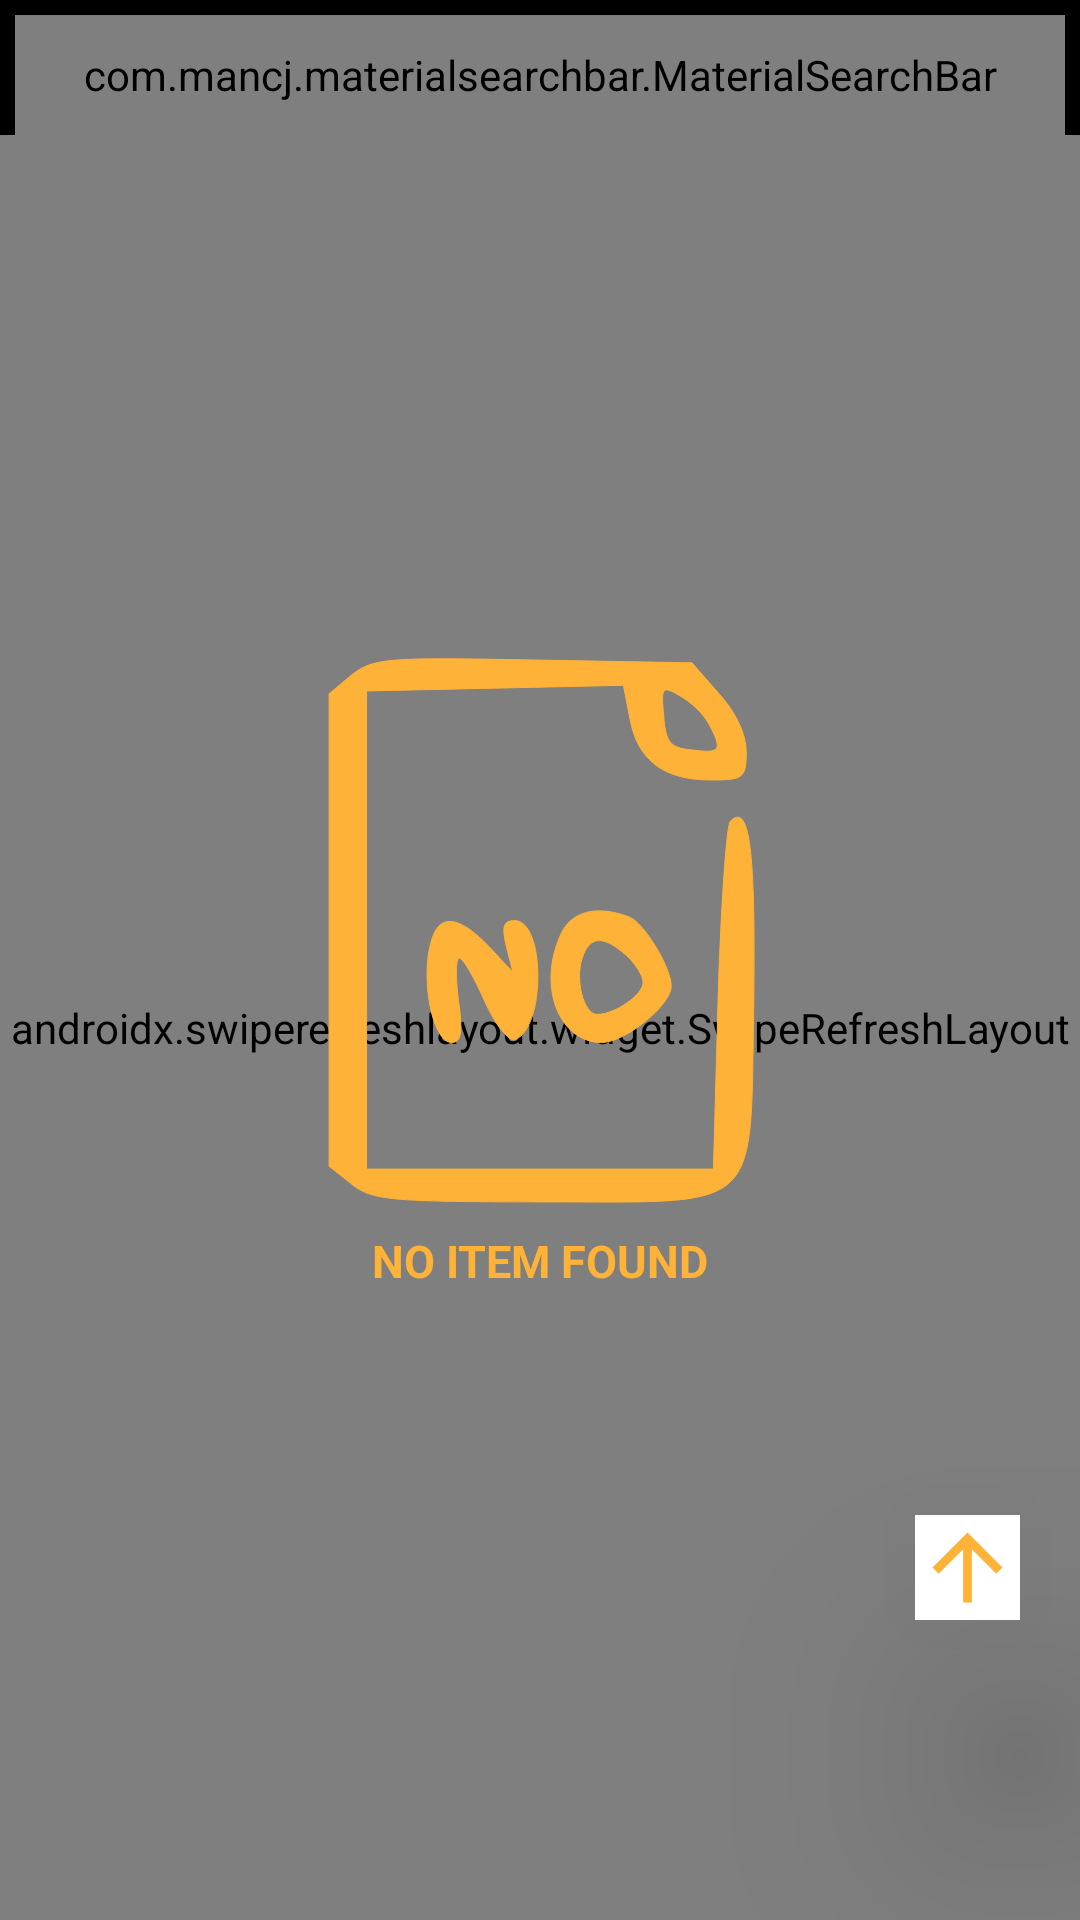

Icons on this 1080×1920 Android screen, each with the point to tap as point (x, y):
arrow upward: point (967, 1567)
